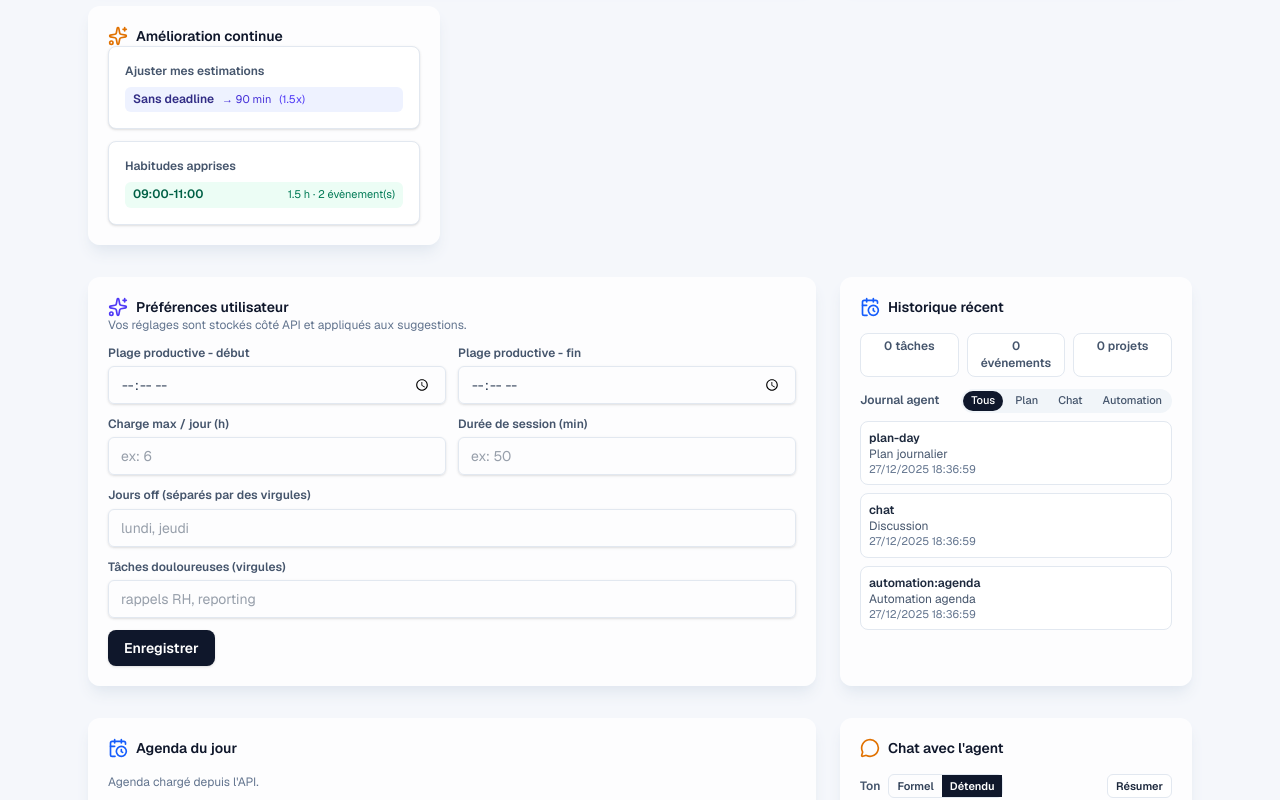
it: Dashboard études - interactions › filtre les logs agent par type (plan, chat, automation)
(page scrolled)
Check: the text "plan-day" is shown, box [869, 430, 920, 446]
Check: the text "chat" is shown, box [869, 502, 894, 518]
Note: Filtre "Plan"
Step 1. Click the button "Plan" → click(1027, 401), box [1007, 391, 1046, 410]
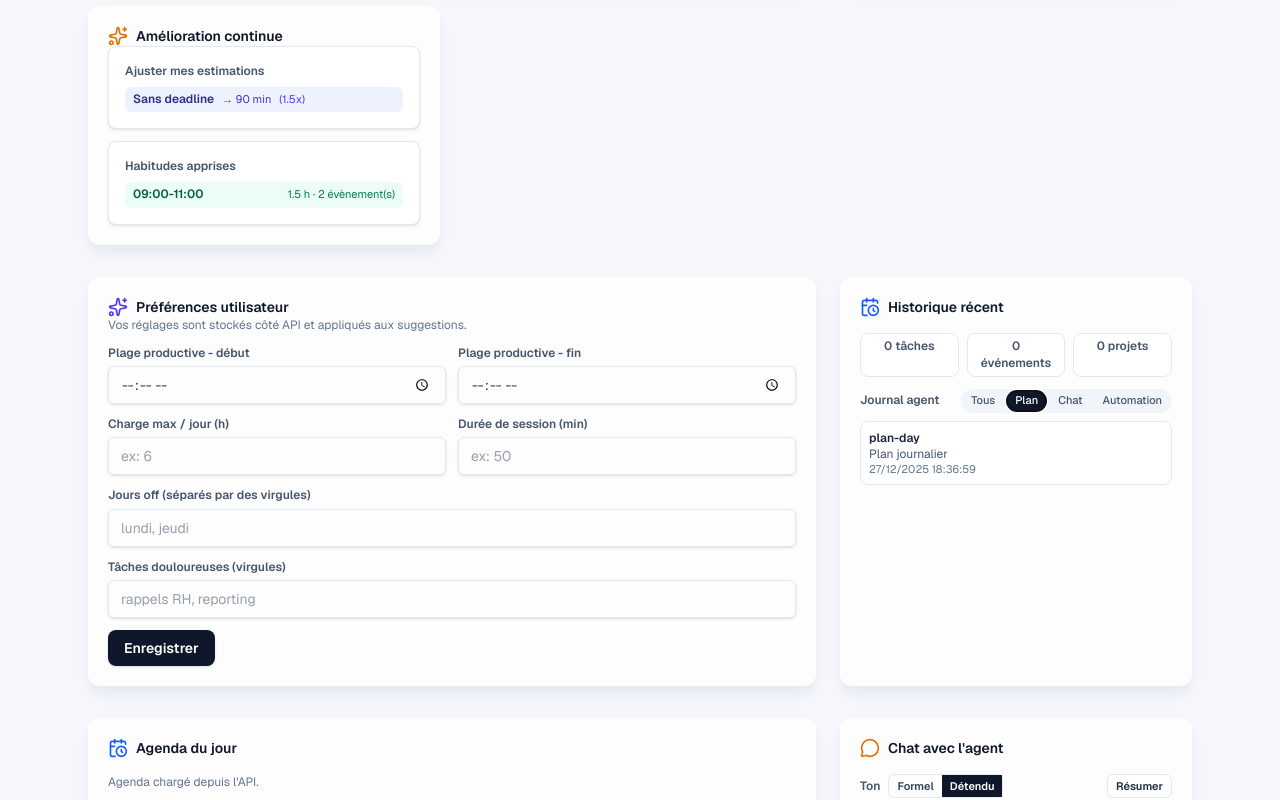
Check: the text "plan-day" is shown, box [869, 430, 920, 446]
Check: the text "automation:agenda" is gone
Note: Filtre "Chat"
Step 2. Click the button "Chat" → click(1070, 401), box [1050, 391, 1091, 410]
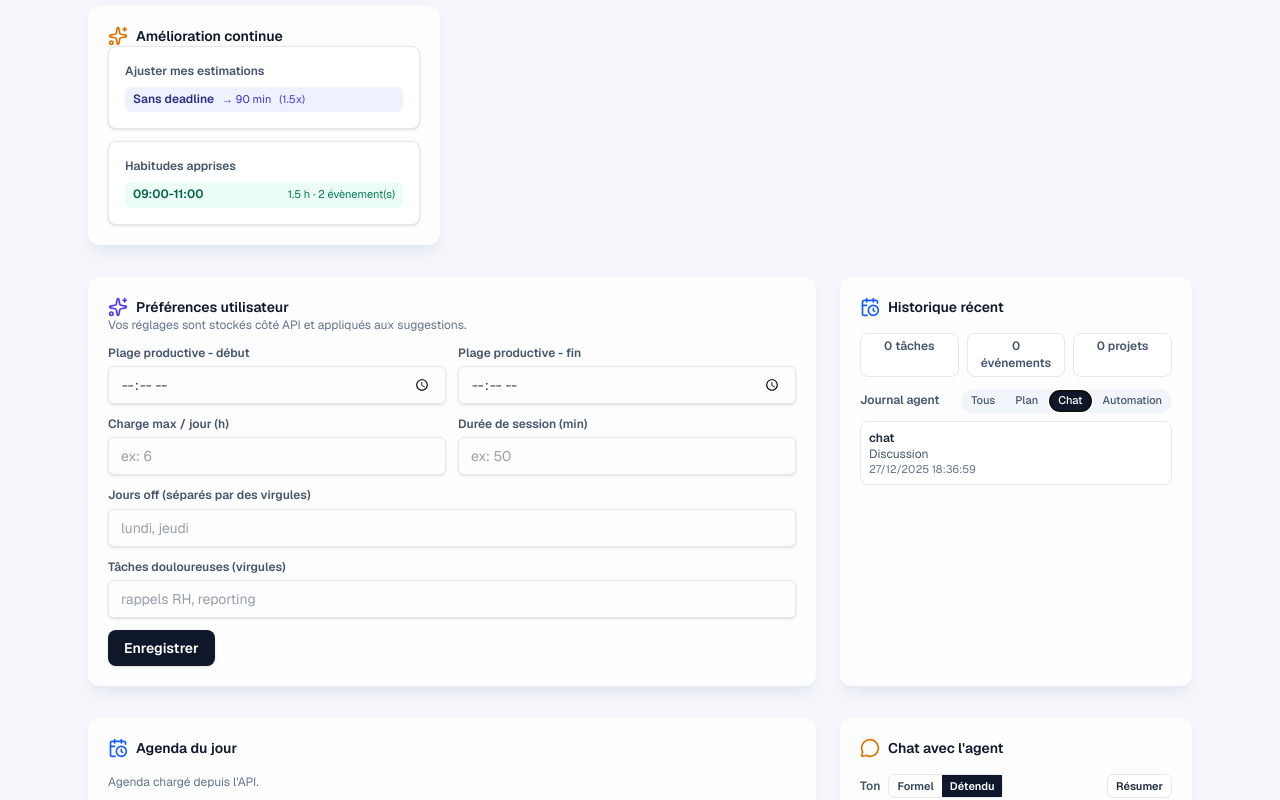
Check: the text "automation:agenda" is not shown
Check: the text "chat" is shown, box [869, 430, 894, 446]
Check: the text "plan-day" is gone
Note: Filtre "Automation"
Step 3. Click the button "Automation" → click(1132, 401), box [1095, 391, 1170, 410]
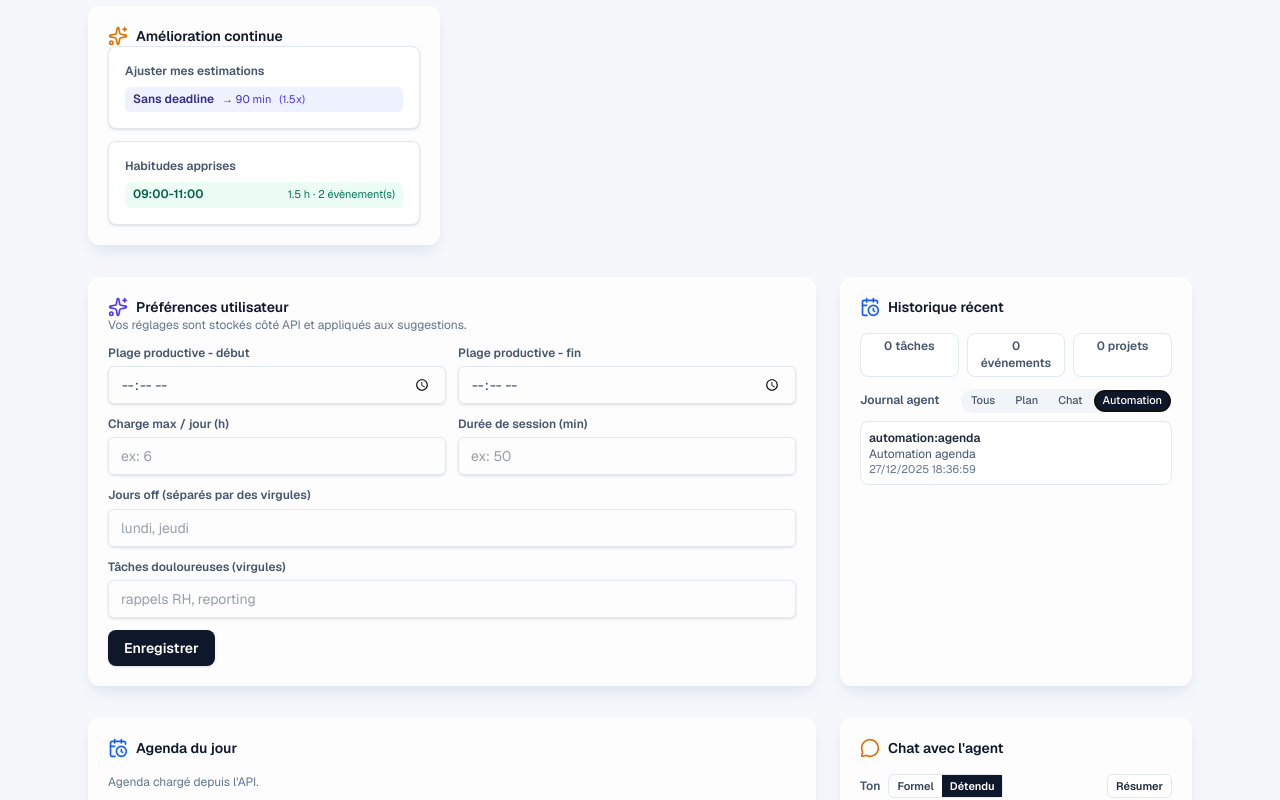
Check: the text "plan-day" is not shown
Check: the text "automation:agenda" is shown, box [869, 430, 980, 446]
